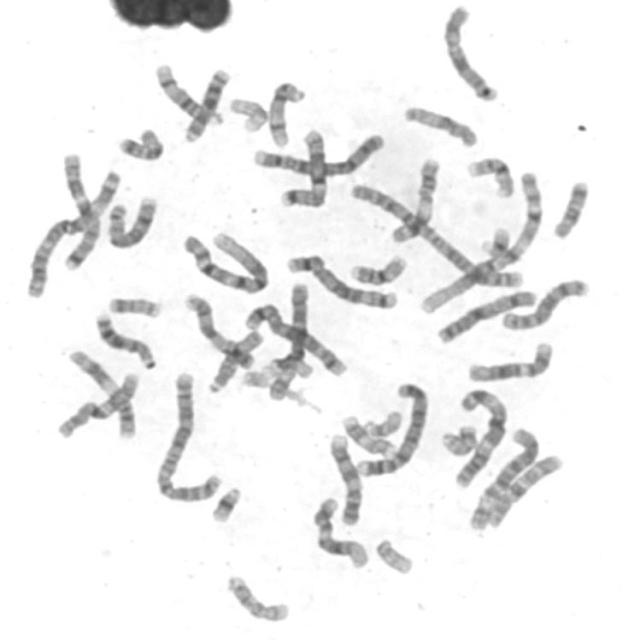A1: (414, 163, 546, 317), (176, 227, 272, 295)
A2: (343, 178, 529, 290), (150, 368, 225, 503)
A3: (20, 164, 123, 299), (449, 384, 510, 489)
B4: (350, 377, 431, 480), (247, 128, 386, 178)
B5: (241, 298, 350, 379), (282, 249, 399, 310)
C10: (479, 449, 565, 530), (51, 368, 142, 440)
C11: (62, 346, 138, 441), (387, 151, 444, 245)
C12: (308, 492, 370, 570), (463, 336, 556, 384)
C6: (464, 422, 542, 533), (262, 278, 311, 404)
C7: (58, 148, 104, 272), (275, 124, 332, 210)
C8: (498, 273, 592, 332), (102, 189, 160, 251)
C9: (179, 288, 259, 371), (323, 429, 365, 527)
D13: (179, 63, 233, 144), (91, 306, 158, 371)
D14: (150, 58, 228, 127), (263, 76, 309, 149)
D15: (204, 324, 266, 396), (398, 100, 481, 148)
E16: (462, 151, 516, 200), (344, 250, 410, 287)
E17: (220, 570, 292, 625), (338, 410, 399, 458)
E18: (548, 175, 591, 241), (112, 122, 166, 163)
F19: (225, 92, 270, 134), (258, 352, 316, 380)
F20: (437, 420, 481, 458), (104, 292, 164, 319)
G21: (206, 481, 243, 525), (476, 222, 513, 260)
G22: (370, 534, 416, 576), (361, 406, 405, 438)
X: (438, 0, 502, 103), (433, 285, 541, 346)
